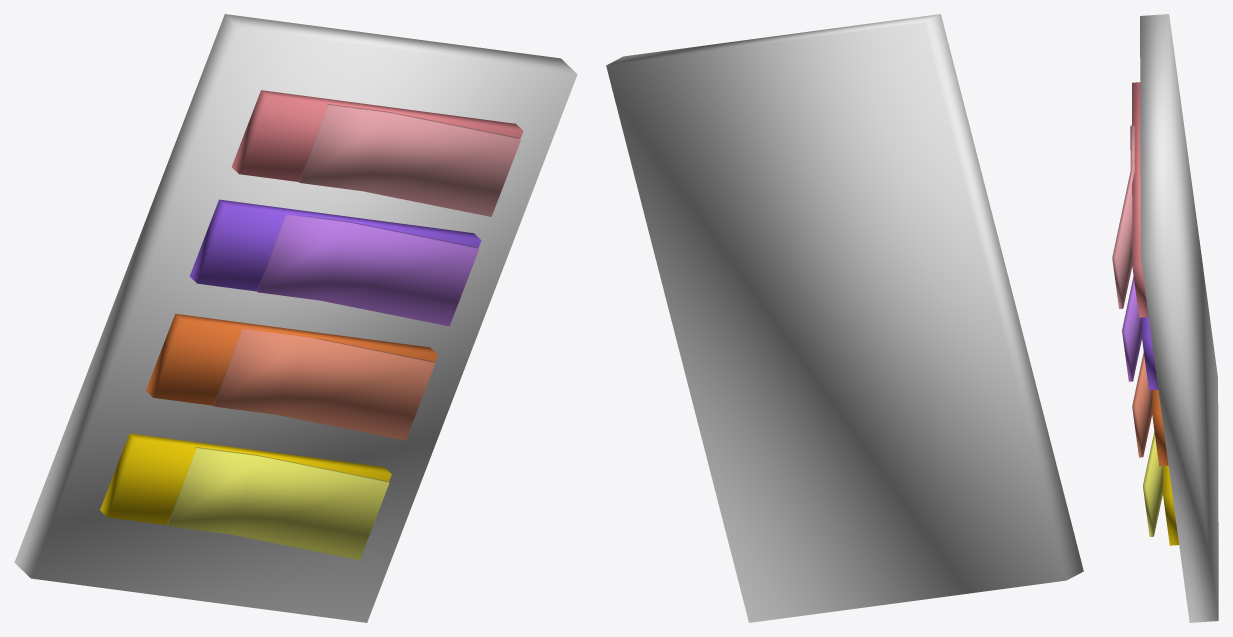
Rendered from postit.glb.
3 views of the same model, side by side, from view 1: azimuth 30°, elevation 25°; view 2: azimuth 150°, elevation 25°; view 3: azimuth 270°, elevation 25° (orthographic). The views are drawn at different scales.
Visible parts, largest first — view 1: Cube.001, Cube.003, Cube.009, Cube.005, Cube.007, Cube.006, Cube.004, Cube.002, Cube.008; view 2: Cube.001; view 3: Cube.001, Cube.002, Cube.003, Cube.007, Cube.009, Cube.005, Cube.008, Cube.006, Cube.004.
Boxes of the visible parts, x1=… form: Cube.001: x1=14, y1=14, x2=577, y2=622; Cube.003: x1=299, y1=103, x2=520, y2=216; Cube.009: x1=167, y1=447, x2=389, y2=559; Cube.005: x1=257, y1=214, x2=478, y2=326; Cube.007: x1=213, y1=329, x2=434, y2=440; Cube.006: x1=146, y1=313, x2=437, y2=405; Cube.004: x1=189, y1=199, x2=481, y2=291; Cube.002: x1=231, y1=90, x2=523, y2=181; Cube.008: x1=100, y1=433, x2=391, y2=525; Cube.001: x1=606, y1=14, x2=1083, y2=622; Cube.001: x1=1140, y1=14, x2=1218, y2=622; Cube.002: x1=1132, y1=82, x2=1148, y2=317; Cube.003: x1=1112, y1=125, x2=1134, y2=308; Cube.007: x1=1132, y1=352, x2=1152, y2=457; Cube.009: x1=1143, y1=432, x2=1162, y2=536; Cube.005: x1=1122, y1=276, x2=1141, y2=381; Cube.008: x1=1163, y1=465, x2=1178, y2=545; Cube.006: x1=1152, y1=389, x2=1168, y2=466; Cube.004: x1=1142, y1=317, x2=1158, y2=390.
Size of the model in its own units: 5.68 by 6.86 by 1.21.
